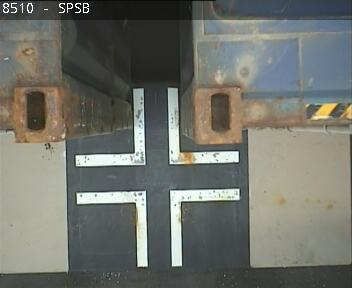groundmarker_1: (74, 89, 238, 167), (76, 188, 240, 266)
